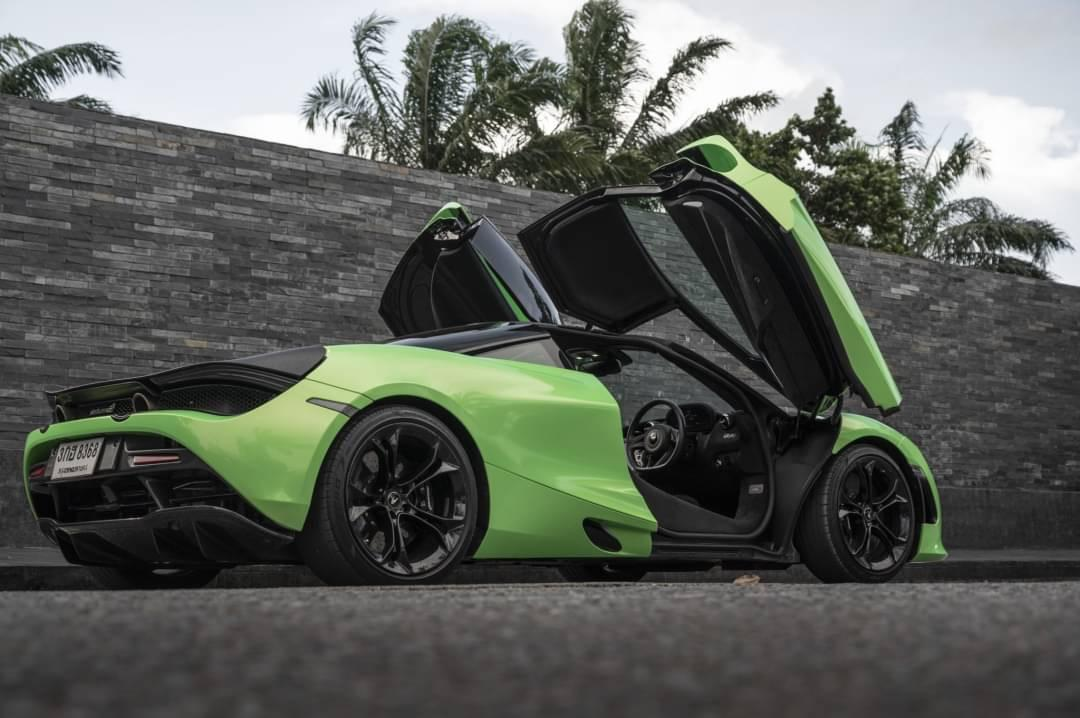license-plate: (46, 434, 110, 482)
